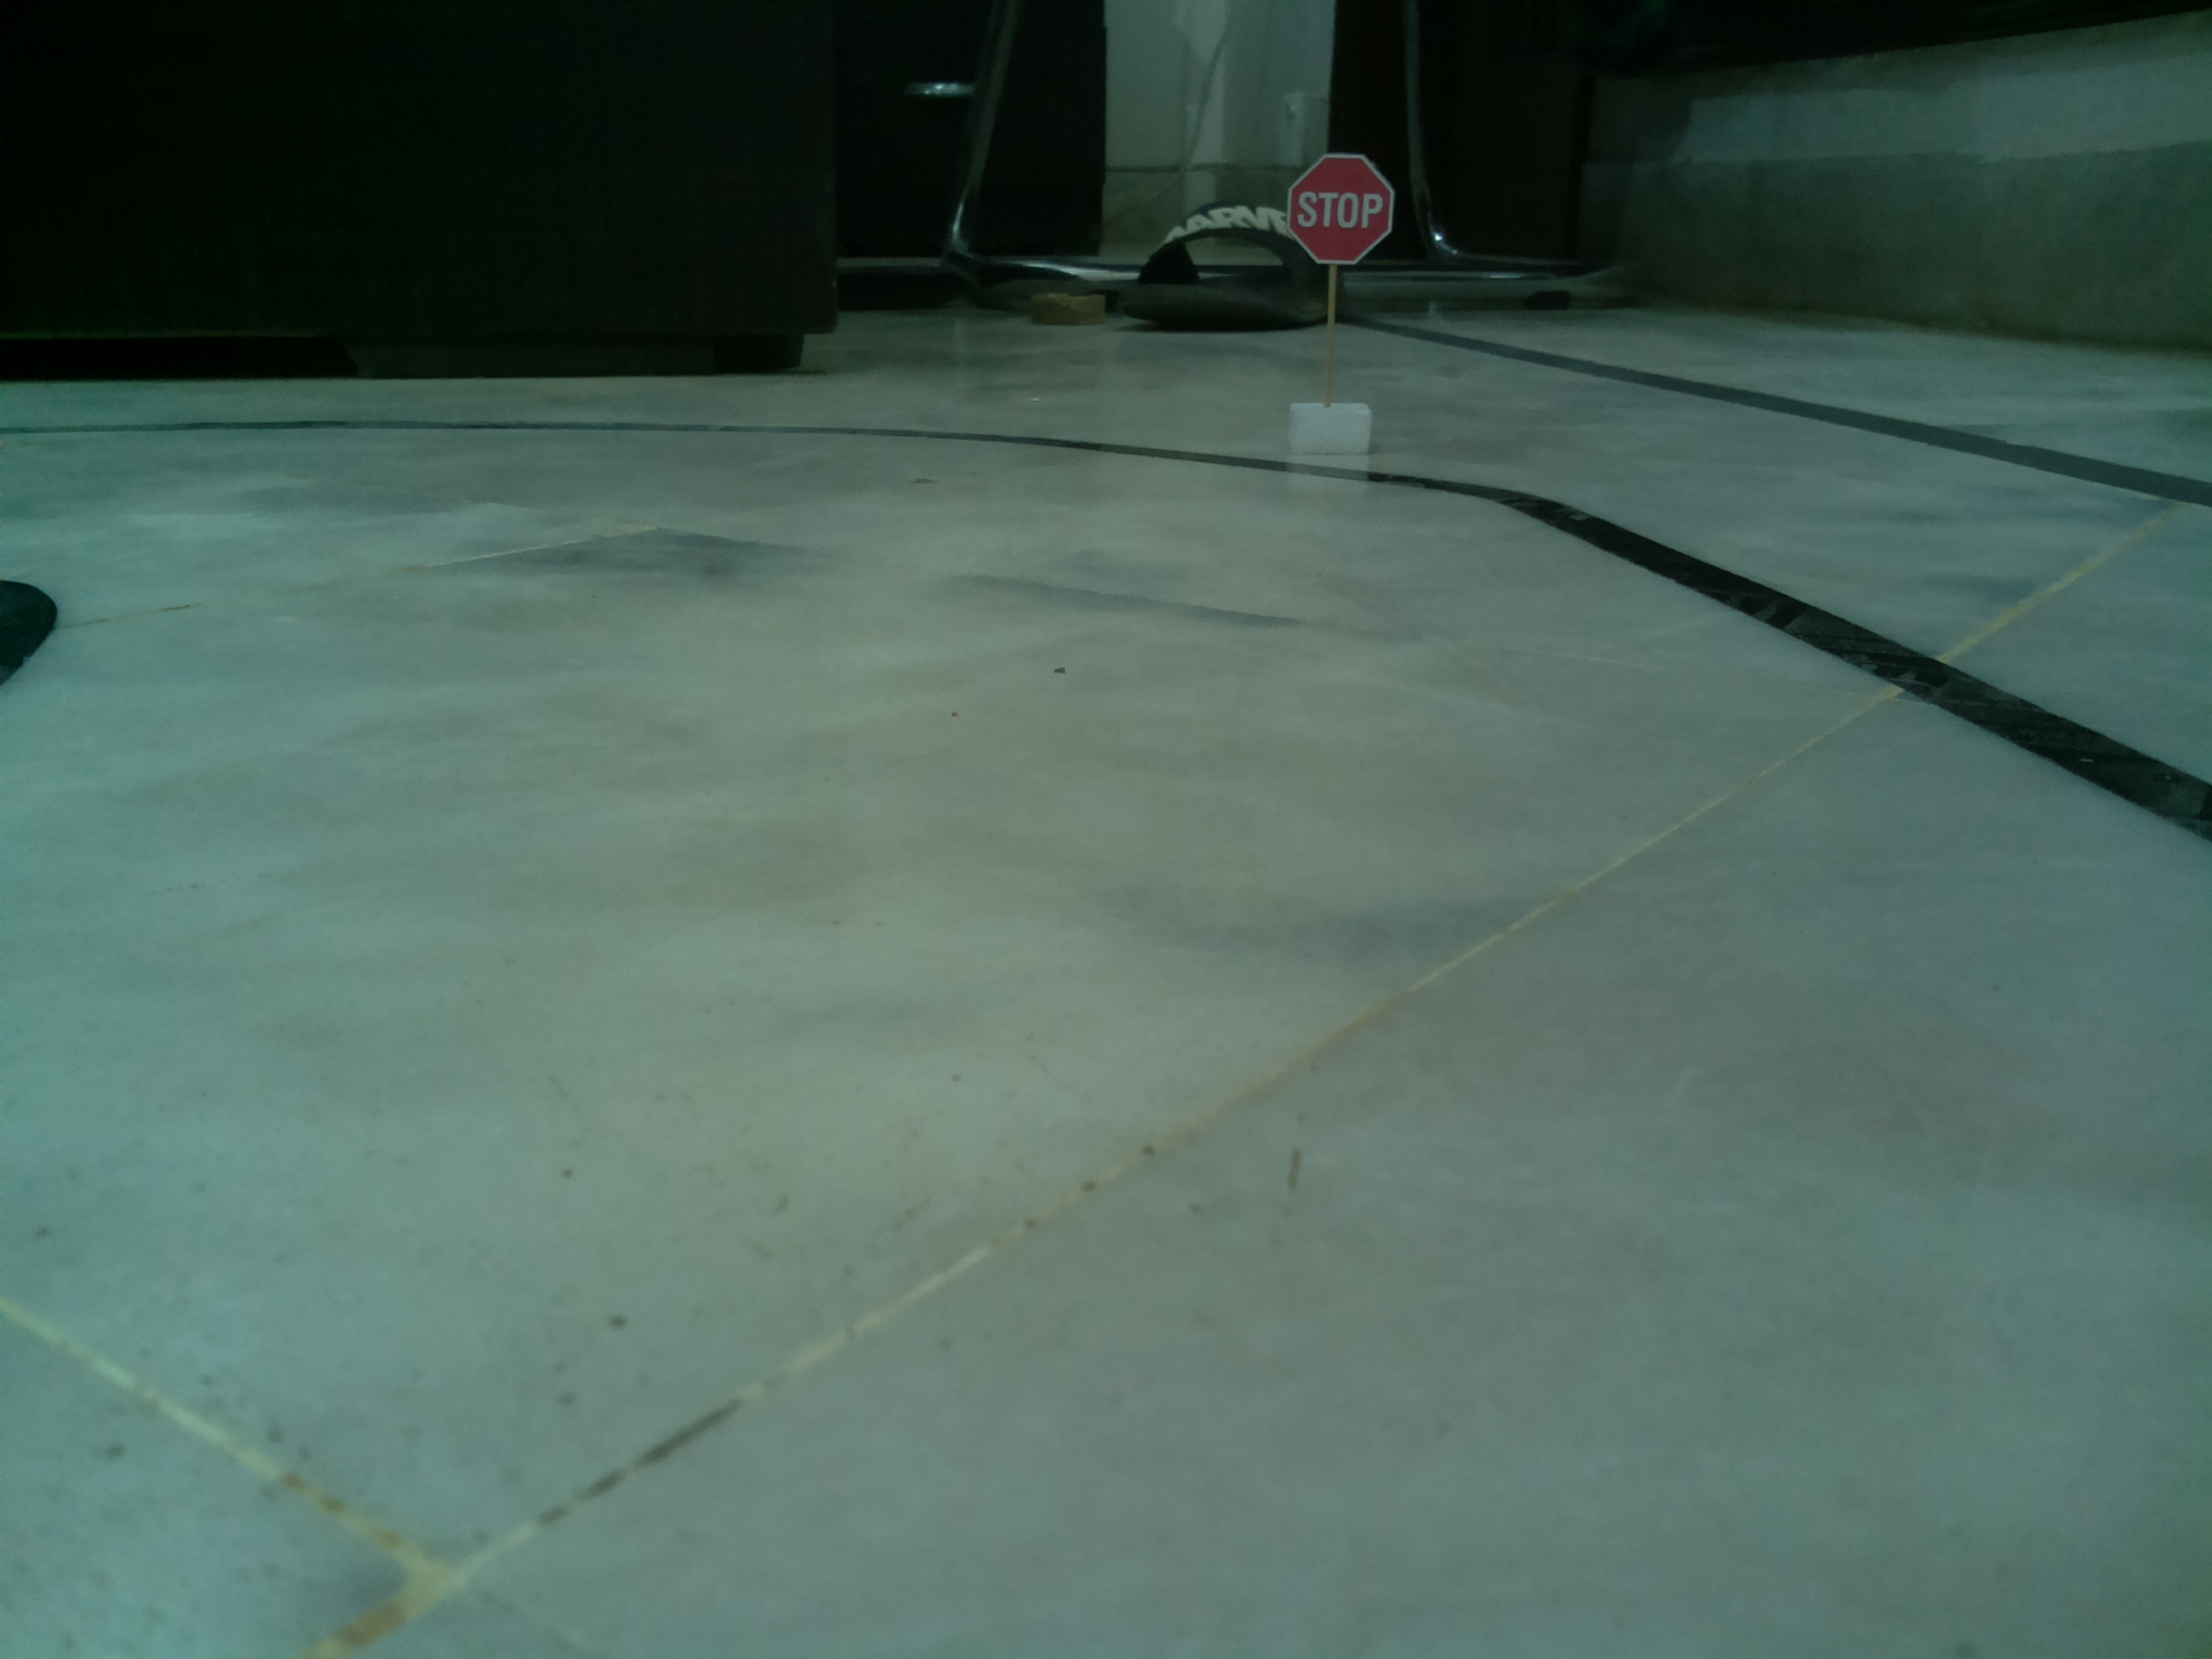Stop sign: (1282, 146, 1404, 272)
